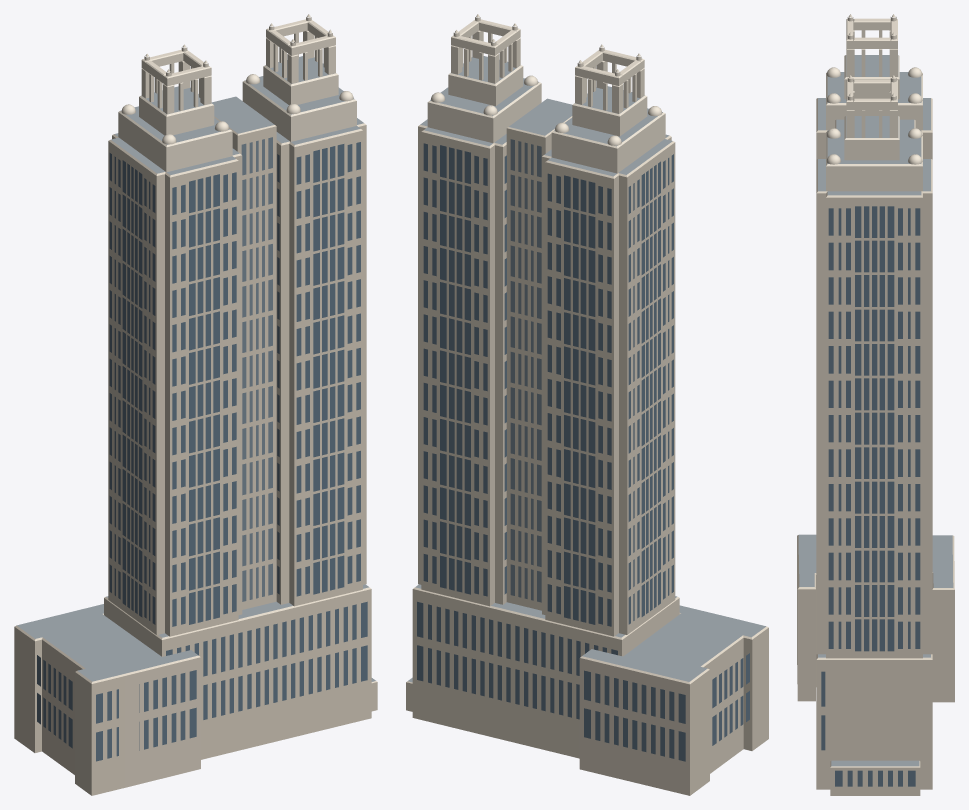
File: atl-191-peachtree-tower.glb
3 renders of one model, left to right at view 1: azimuth 30°, elevation 25°; view 2: azimuth 150°, elevation 25°; view 3: azimuth 270°, elevation 25°, orthographic.
Visible parts, largest first — view 1: 191 Peachtree Tower; view 2: 191 Peachtree Tower; view 3: 191 Peachtree Tower.
Part boxes in pixels (<box>): 191 Peachtree Tower: <box>14,14,377,795</box>; 191 Peachtree Tower: <box>406,14,768,795</box>; 191 Peachtree Tower: <box>797,14,954,795</box>.
Size of the model in its own units: 109 by 235 by 49.08.
